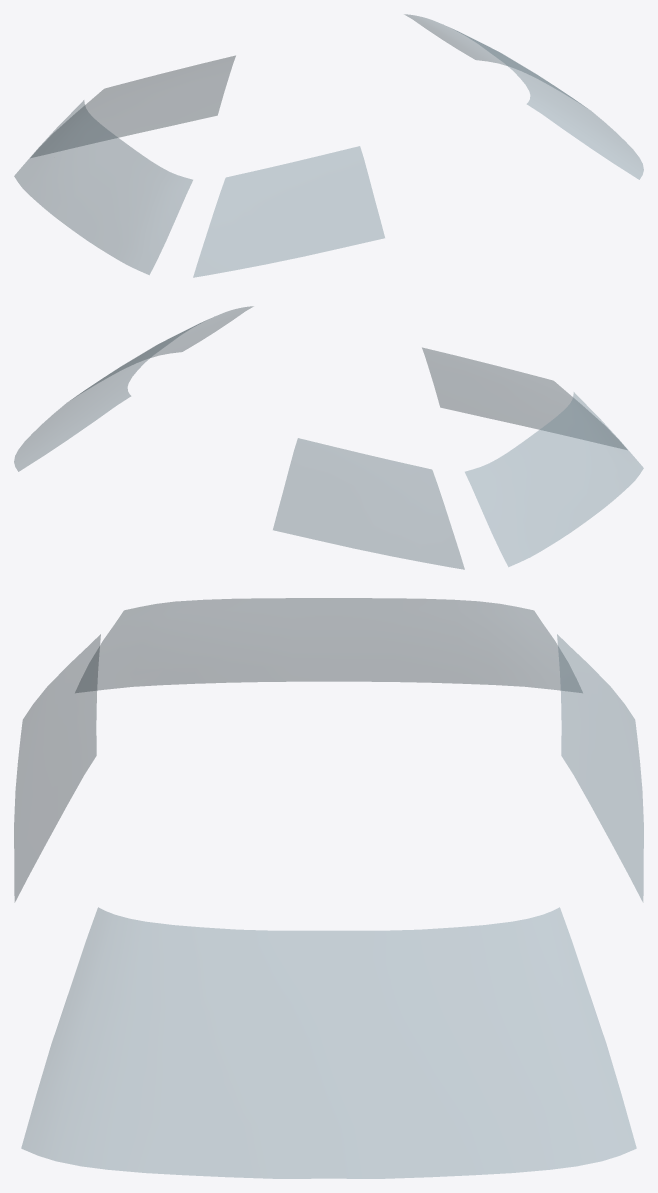
3 renders of one model, top to bottom at view 1: azimuth 30°, elevation 25°; view 2: azimuth 150°, elevation 25°; view 3: azimuth 270°, elevation 25°, orthographic. The views are drawn at different scales.
Parts seen in each view (by area): view 1: SM_MiniCooper_Glass_Int2; view 2: SM_MiniCooper_Glass_Int2; view 3: SM_MiniCooper_Glass_Int2.
Boxes of the visible parts, <box> form: SM_MiniCooper_Glass_Int2: <box>14,14,643,277</box>; SM_MiniCooper_Glass_Int2: <box>14,306,643,569</box>; SM_MiniCooper_Glass_Int2: <box>14,598,643,1178</box>.
Size of the model in its own units: 2.93 by 0.4488 by 1.63.
